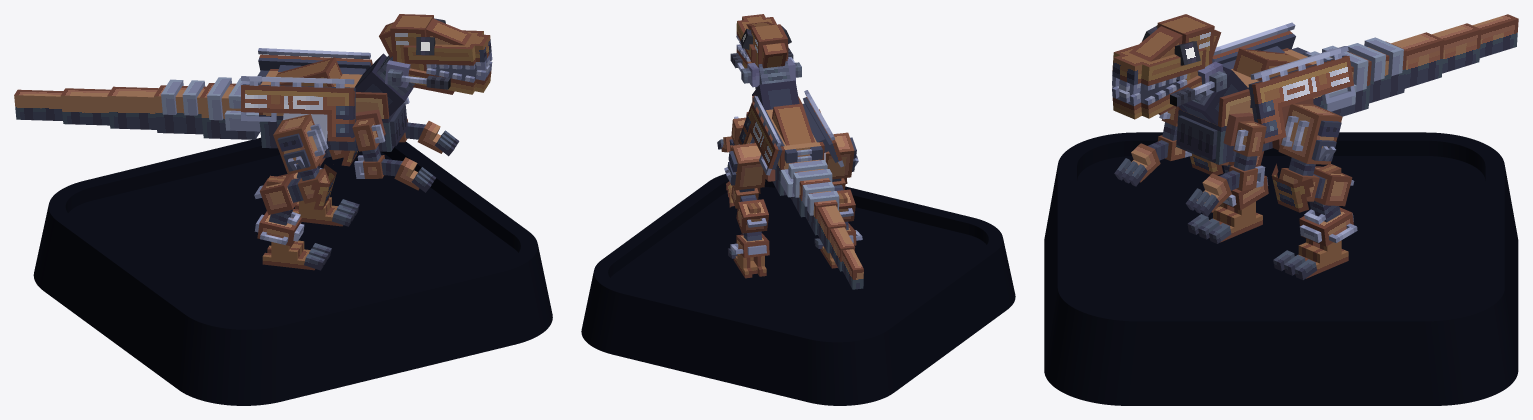
The model's file is robotic_velociraptor_diorama.glb.
The picture shows the model from 3 angles, left to right: view 1: azimuth 30°, elevation 25°; view 2: azimuth 150°, elevation 25°; view 3: azimuth 270°, elevation 25°; orthographic projection. The views are drawn at different scales.
Visible parts, largest first — view 1: Cube, cube.047, cube.194, cube.185, cube.184, cube.021, cube.183, cube.186, cube.024, cube.168, cube.189, cube.056 (+16 smaller); view 2: Cube, cube.201, cube.124, cube.039, cube.056, cube.168, cube.024, cube.194, cube.185, cube.109, cube.183, cube.184 (+10 smaller); view 3: Cube, cube.039, cube.194, cube.185, cube.124, cube.184, cube.021, cube.024, cube.183, cube.200, cube.201, cube.056 (+25 smaller).
Boxes of the visible parts, x1,y1,x2,y2 form: Cube: [33, 137, 552, 405]; cube.047: [241, 84, 355, 115]; cube.194: [259, 69, 397, 151]; cube.185: [107, 86, 158, 129]; cube.184: [60, 88, 110, 125]; cube.021: [403, 30, 483, 65]; cube.183: [14, 89, 63, 120]; cube.186: [154, 85, 206, 134]; cube.024: [390, 14, 433, 71]; cube.168: [273, 114, 325, 174]; cube.189: [200, 83, 260, 139]; cube.056: [355, 53, 413, 116]; Cube: [581, 174, 1015, 405]; cube.201: [772, 103, 814, 145]; cube.124: [732, 143, 765, 190]; cube.039: [745, 102, 782, 169]; cube.056: [752, 80, 799, 109]; cube.168: [825, 132, 854, 179]; cube.024: [751, 24, 787, 67]; cube.194: [752, 95, 824, 195]; cube.185: [817, 205, 846, 253]; cube.109: [736, 199, 768, 233]; cube.183: [842, 249, 863, 289]; cube.184: [829, 227, 855, 271]; Cube: [1044, 132, 1518, 405]; cube.039: [1248, 55, 1353, 113]; cube.194: [1176, 48, 1327, 164]; cube.185: [1391, 32, 1444, 88]; cube.124: [1278, 103, 1342, 164]; cube.184: [1432, 23, 1481, 73]; cube.021: [1112, 45, 1206, 85]; cube.024: [1157, 14, 1214, 81]; cube.183: [1472, 14, 1518, 58]; cube.200: [1176, 115, 1217, 159]; cube.201: [1233, 48, 1312, 80]; cube.056: [1178, 66, 1247, 125].
Size of the model in its own units: 5.87 by 4.44 by 5.87.
Materials: 2 (1 with a texture image).
